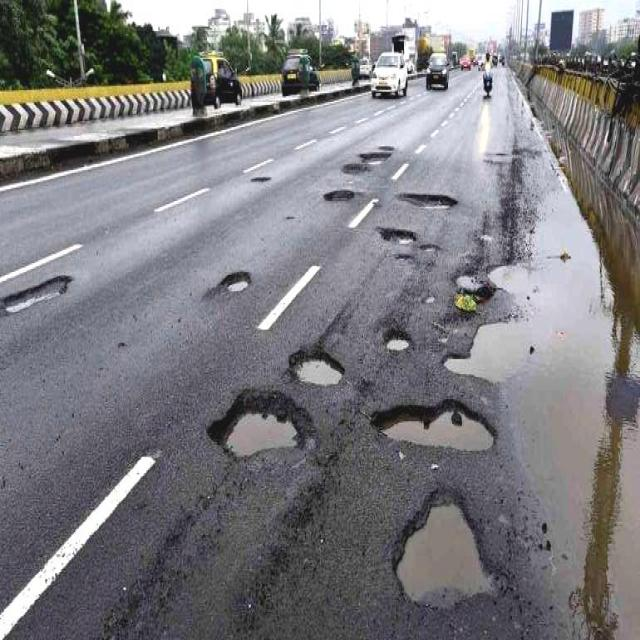pothole: (392, 486, 500, 610), (371, 397, 501, 466), (210, 388, 317, 465), (290, 343, 347, 392), (2, 274, 72, 310), (401, 189, 458, 216), (379, 222, 417, 250), (383, 322, 412, 358), (222, 270, 252, 296), (359, 146, 388, 170), (323, 186, 355, 203), (454, 269, 482, 287)
